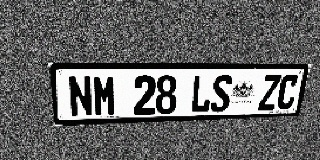2: (134, 75, 156, 115)
8: (155, 75, 178, 114)
C: (275, 74, 300, 110)
L: (190, 75, 213, 113)
M: (92, 75, 116, 117)
N: (67, 76, 93, 117)
S: (210, 75, 233, 112)
Z: (258, 74, 282, 111)
